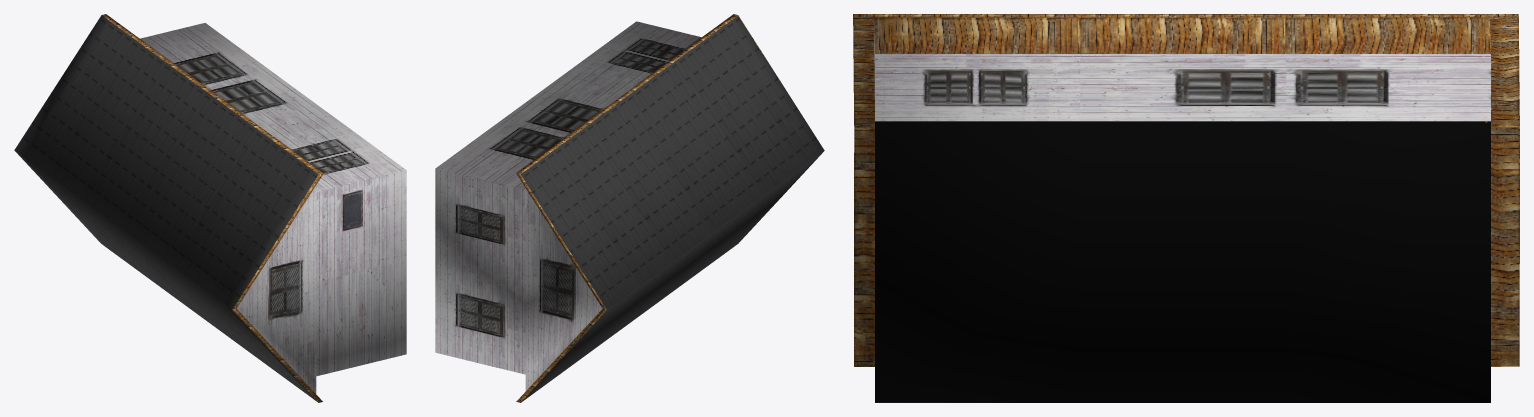
File: home0.fbx
3 renders of one model, left to right at view 1: azimuth 30°, elevation 25°; view 2: azimuth 150°, elevation 25°; view 3: azimuth 270°, elevation 25°, orthographic. The views are drawn at different scales.
Parts seen in each view (by area): view 1: Cube; view 2: Cube; view 3: Cube.
Boxes of the visible parts, x1,y1,x2,y2 form: Cube: (14,14,406,402); Cube: (435,14,824,402); Cube: (853,14,1519,402).
Bounding box in the file's own units: 15.27 × 18.38 × 31.78.
1 material, 1 textured.
